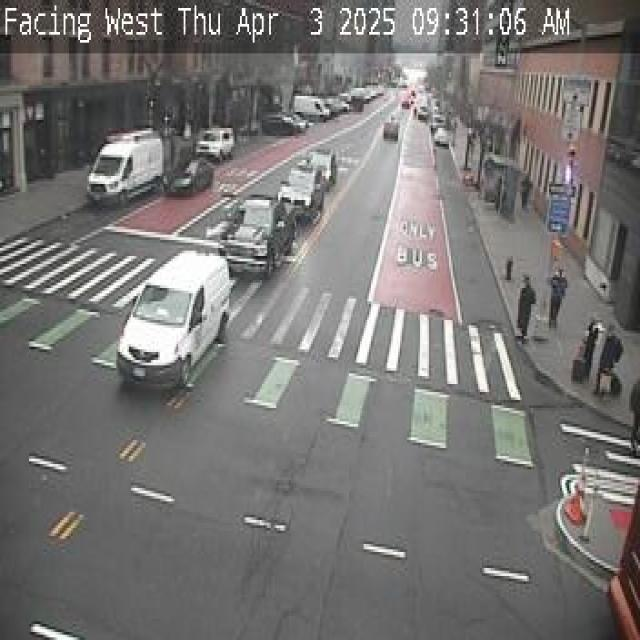open parking: (434, 82, 510, 329), (219, 102, 303, 146)
